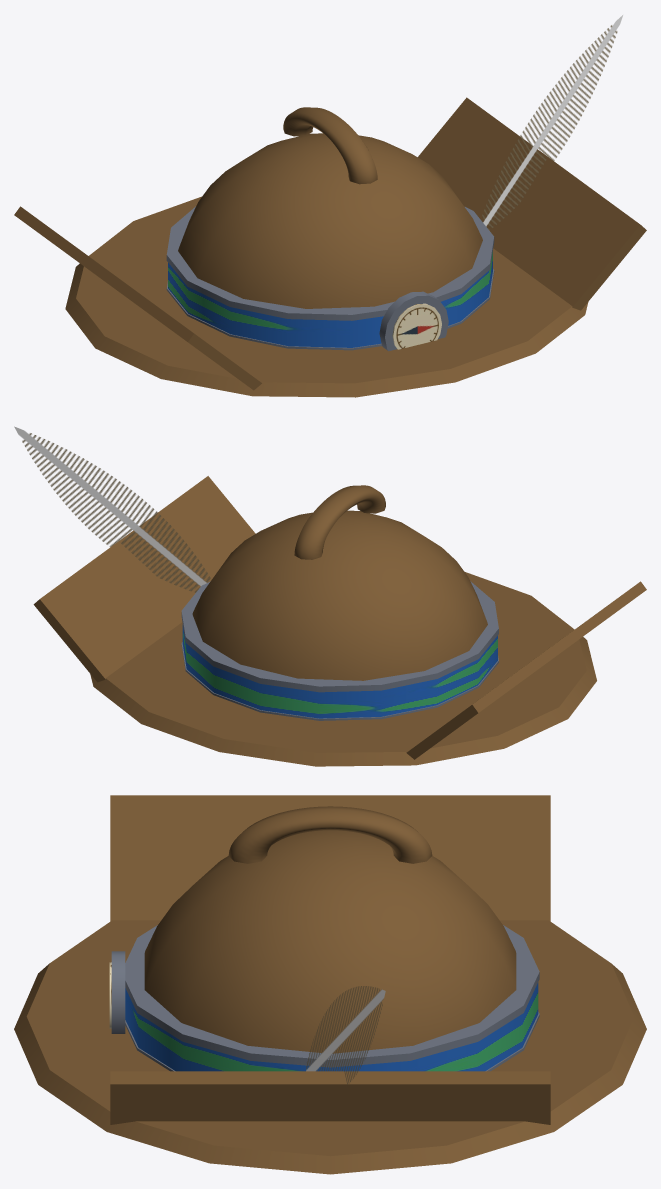
Rendered from hat_eqsa0.glb.
3 views of the same model, one above another, from view 1: azimuth 30°, elevation 25°; view 2: azimuth 150°, elevation 25°; view 3: azimuth 270°, elevation 25° (orthographic). The views are drawn at different scales.
Bounding box in the file's own units: 4.24 × 1.42 × 3.33.
Materials: 5 (3 with a texture image).
